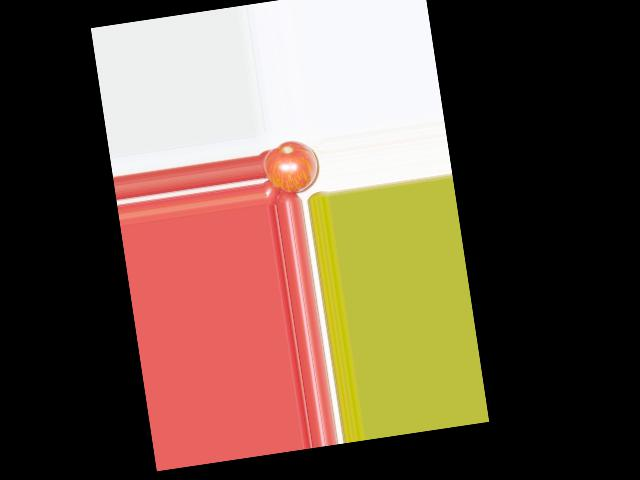tomato: (260, 137, 321, 196)
